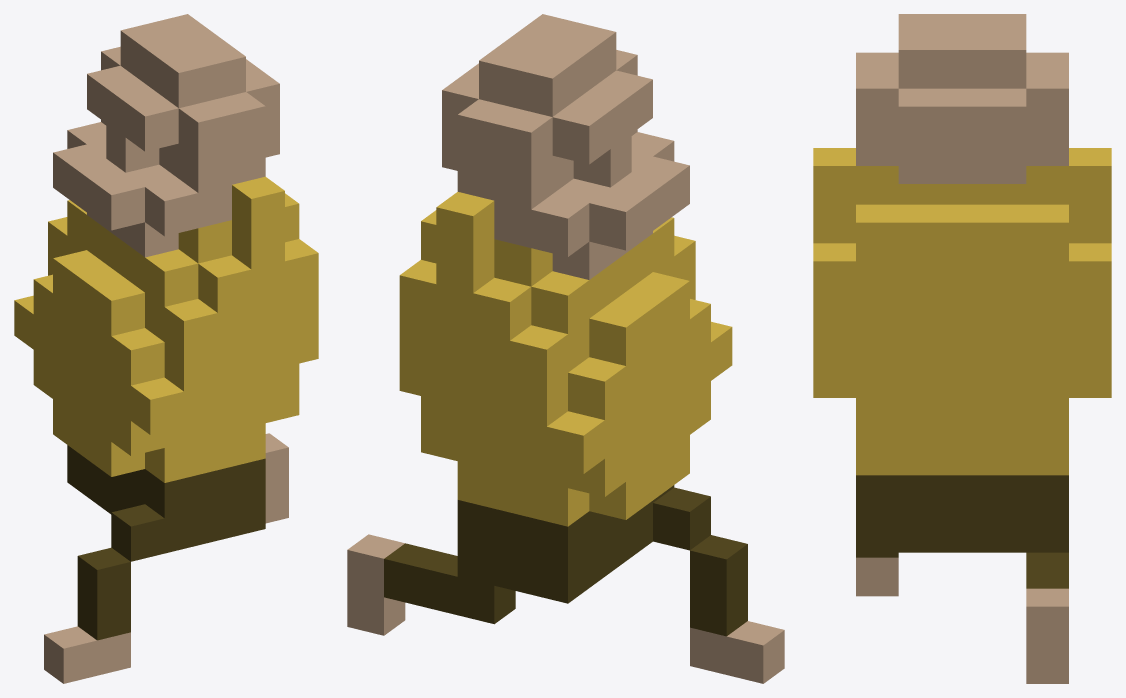
Rendered from orc-8-torso_walk.obj.
3 views of the same model, side by side, from view 1: azimuth 30°, elevation 25°; view 2: azimuth 150°, elevation 25°; view 3: azimuth 270°, elevation 25° (orthographic). The views are drawn at different scales.
Parts seen in each view (by area): view 1: torso_walk; view 2: torso_walk; view 3: torso_walk.
Boxes of the visible parts, x1=… form: torso_walk: x1=14, y1=14, x2=318, y2=683; torso_walk: x1=347, y1=14, x2=784, y2=683; torso_walk: x1=813, y1=14, x2=1111, y2=683.
Bounding box in the file's own units: 0.9 × 1.6 × 0.7.
1 material, 1 textured.
